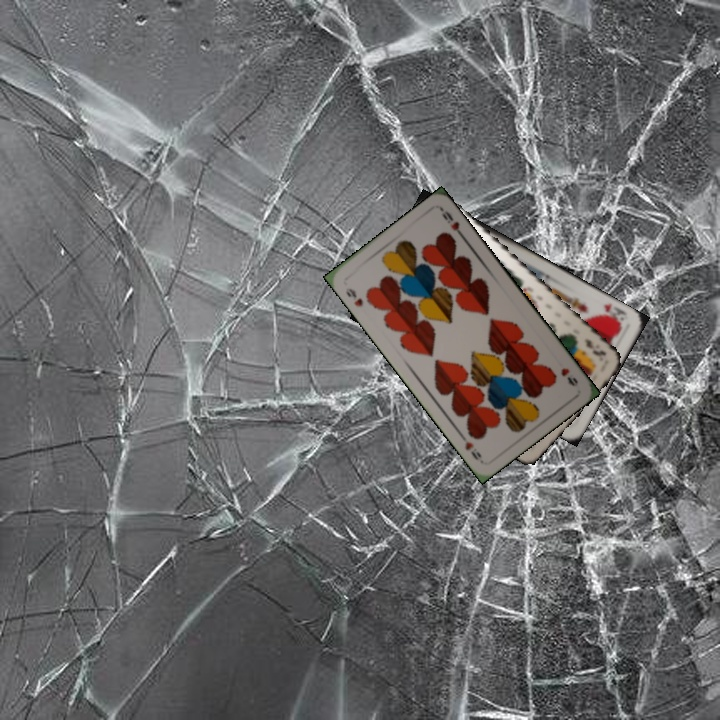EK: (580, 335, 609, 364)
H9: (557, 364, 581, 389), (341, 284, 365, 309)
HK: (599, 299, 630, 327)
